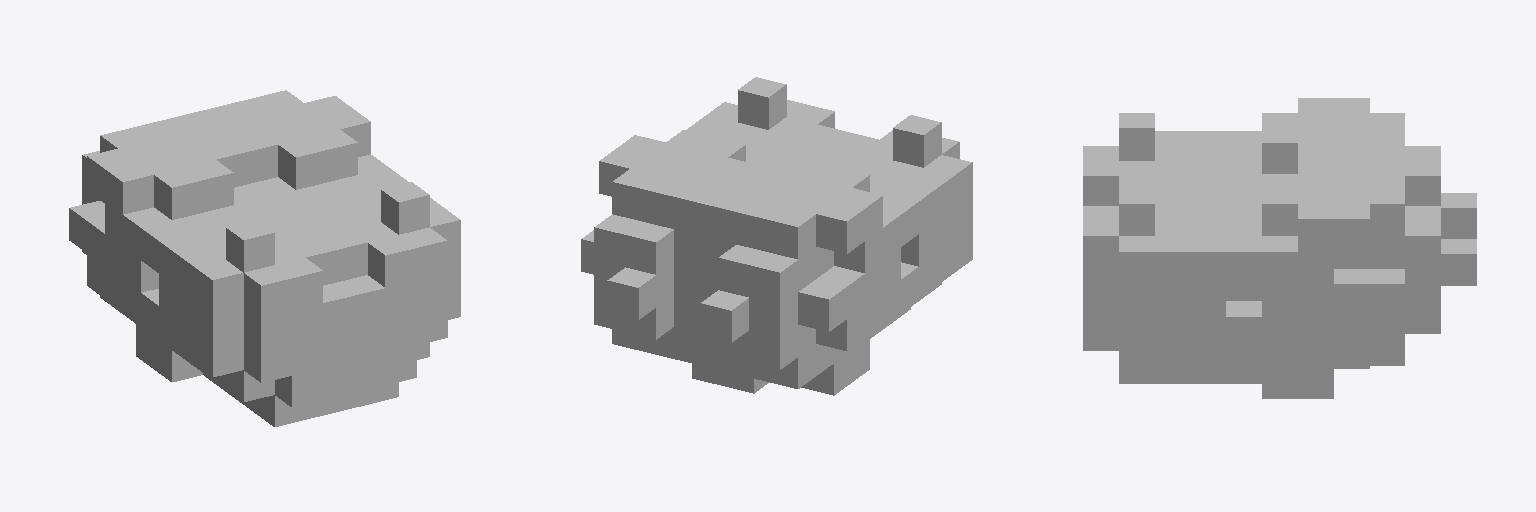
The model's file is lady3.obj.
The picture shows the model from 3 angles: view 1: azimuth 30°, elevation 25°; view 2: azimuth 150°, elevation 25°; view 3: azimuth 270°, elevation 25°; orthographic projection.
Visible parts, largest first — view 1: Model; view 2: Model; view 3: Model.
Boxes of the visible parts, box(x1,y1,x2,y2) form: Model: box(69, 90, 460, 426); Model: box(581, 77, 972, 395); Model: box(1083, 98, 1476, 398).
Size of the model in its own units: 0.8 by 0.6 by 1.1.